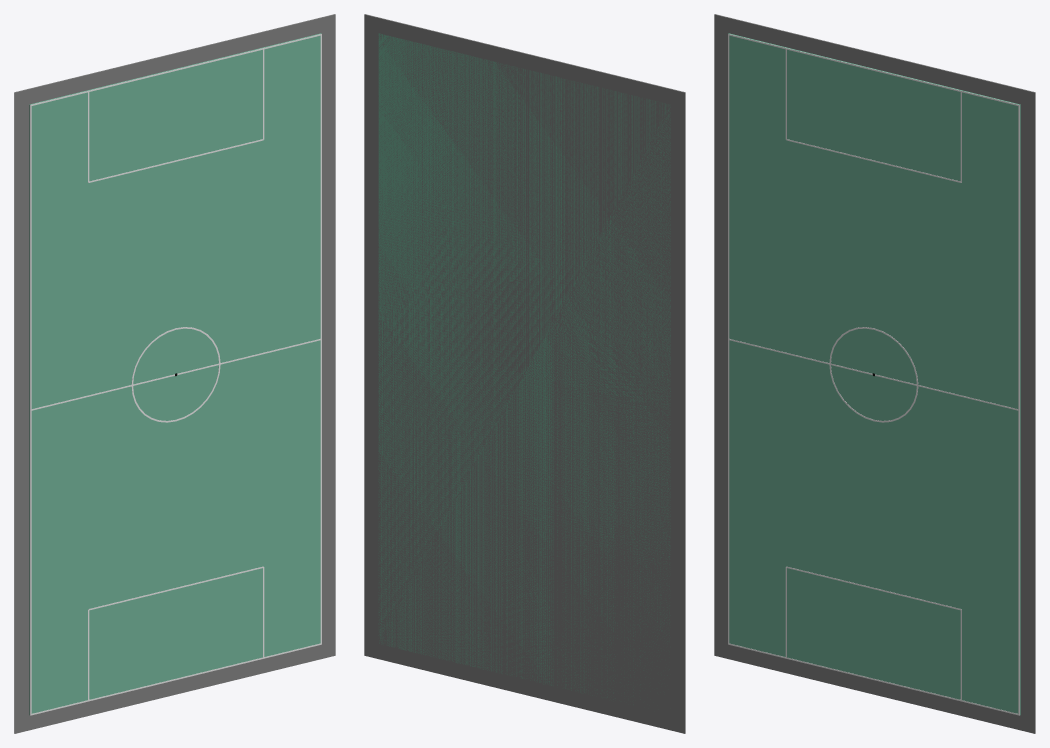
Rendered from RTP_Sports_Court.glb.
The picture shows the model from 3 angles, left to right: view 1: azimuth 30°, elevation 25°; view 2: azimuth 150°, elevation 25°; view 3: azimuth 330°, elevation 25°; orthographic projection.
Visible parts, largest first — view 1: Sports_Floor, Court_Border, Line_Left, Line_Right, Line_Bottom, Line_Top, Center_Circle, Line_Center; view 2: Court_Border, Sports_Floor; view 3: Sports_Floor, Court_Border, Line_Right, Line_Left, Line_Bottom, Line_Top, Center_Circle, Line_Center.
Boxes of the visible parts, <box> form: Sports_Floor: <box>29,33,321,715</box>; Court_Border: <box>14,14,335,733</box>; Line_Left: <box>30,104,31,715</box>; Line_Right: <box>320,34,321,644</box>; Line_Bottom: <box>30,643,321,715</box>; Line_Top: <box>31,34,321,105</box>; Center_Circle: <box>131,327,220,422</box>; Line_Center: <box>31,339,320,410</box>; Court_Border: <box>364,14,685,733</box>; Sports_Floor: <box>378,33,670,704</box>; Sports_Floor: <box>728,33,1020,715</box>; Court_Border: <box>714,14,1035,733</box>; Line_Right: <box>1018,104,1019,715</box>; Line_Left: <box>728,34,729,644</box>; Line_Bottom: <box>728,643,1019,715</box>; Line_Top: <box>728,34,1018,105</box>; Center_Circle: <box>829,327,918,422</box>; Line_Center: <box>728,339,1018,410</box>.
Bounding box in the file's own units: 22 × 42 × 0.177.
